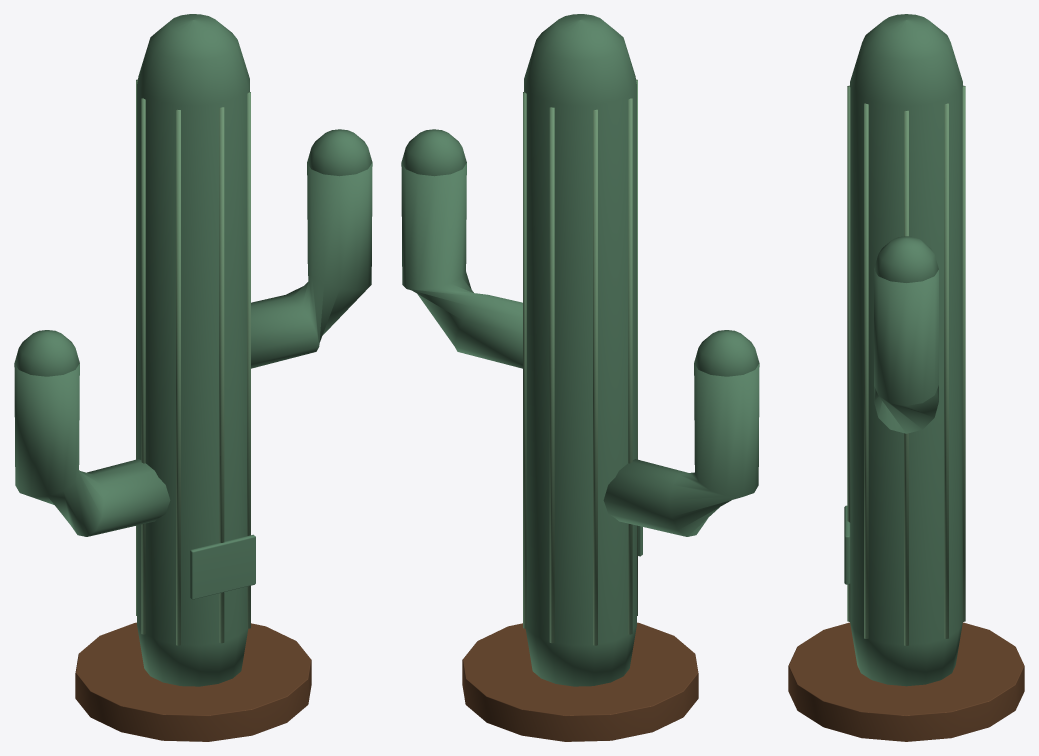
The model's file is S068_branch_cactus_rebuilt.glb.
3 renders of one model, left to right at view 1: azimuth 30°, elevation 25°; view 2: azimuth 150°, elevation 25°; view 3: azimuth 270°, elevation 25°, orthographic.
Parts seen in each view (by area): view 1: Matte_cactus_scenic_paint, Oak_end_and_edge.001, Cactus_ridge_highlight; view 2: Matte_cactus_scenic_paint, Oak_end_and_edge.001, Cactus_ridge_highlight; view 3: Matte_cactus_scenic_paint, Oak_end_and_edge.001, Cactus_ridge_highlight.
Part boxes in pixels (x1=…): Matte_cactus_scenic_paint: x1=14, y1=14, x2=372, y2=686; Oak_end_and_edge.001: x1=75, y1=622, x2=311, y2=741; Cactus_ridge_highlight: x1=136, y1=79, x2=250, y2=645; Matte_cactus_scenic_paint: x1=401, y1=14, x2=759, y2=686; Oak_end_and_edge.001: x1=462, y1=622, x2=698, y2=741; Cactus_ridge_highlight: x1=523, y1=79, x2=637, y2=645; Matte_cactus_scenic_paint: x1=844, y1=14, x2=962, y2=686; Oak_end_and_edge.001: x1=788, y1=622, x2=1024, y2=741; Cactus_ridge_highlight: x1=847, y1=85, x2=965, y2=645.
Size of the model in its own units: 1.36 by 2.5 by 0.797.
